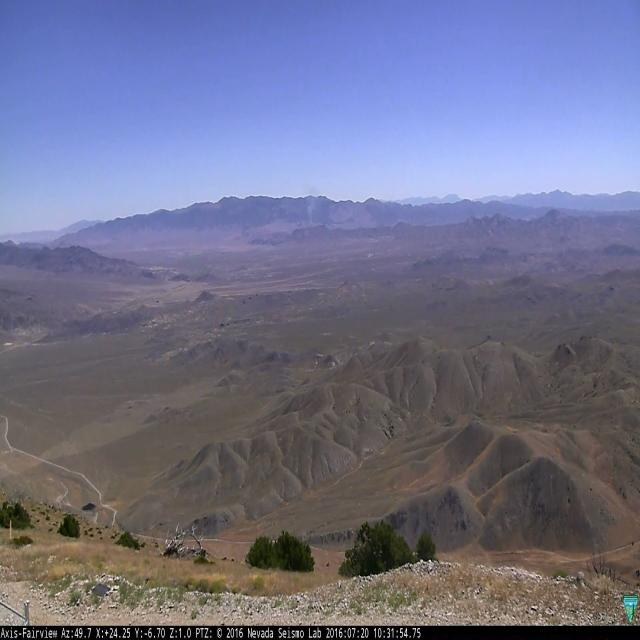smoke: (308, 197, 316, 223)
